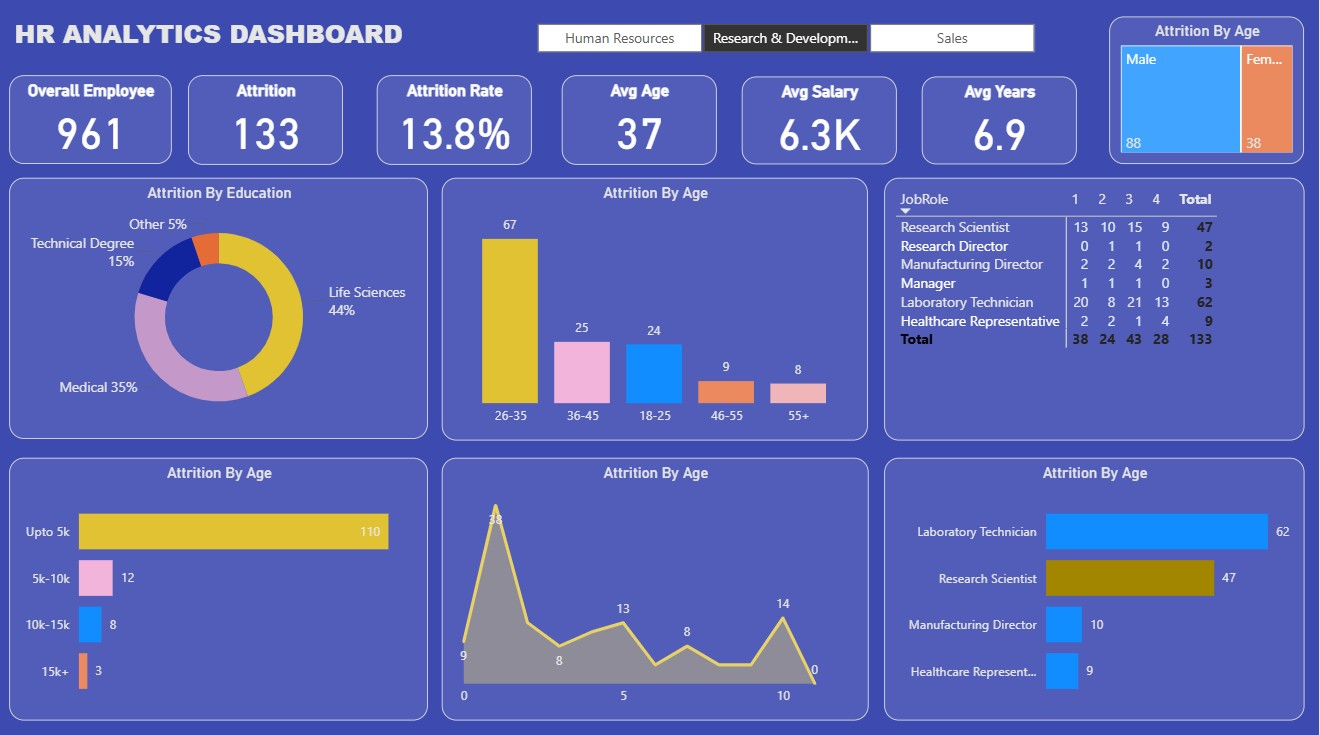

The page's visual inventory and layout, read from the dashboard file:
{"tool":"powerbi","page":{"name":"Page 1","canvas":[1280,720],"ordinal":0},"visuals":[{"type":"card","title":"Overall Employee","fields":{"Values":["CountNonNull(HR_Analytics.EmpID)"]},"box":[15.7,78.4,156.8,85.7],"z":0},{"type":"card","title":"Attrition","fields":{"Values":["Sum(HR_Analytics.AttritionValue)"]},"box":[188,78.2,149.6,86.4],"z":1000},{"type":"card","title":"Attrition Rate","fields":{"Values":["HR_Analytics.AttritionRate"]},"box":[370.5,78.2,149.6,86.4],"z":2000},{"type":"card","title":"Avg Age","fields":{"Values":["Avg(HR_Analytics.Age)"]},"box":[548.9,78.2,149.6,86.4],"z":3000},{"type":"card","title":"Avg Salary","fields":{"Values":["Avg(HR_Analytics.MonthlyIncome)"]},"box":[723.2,79.6,149.6,85.1],"z":4000},{"type":"card","title":"Avg Years","fields":{"Values":["Avg(HR_Analytics.YearsAtCompany)"]},"box":[896.1,79.6,149.6,85.1],"z":5000},{"type":"donutChart","title":"Attrition By Education","fields":{"Category":["HR_Analytics.EducationField"],"Y":["Sum(HR_Analytics.AttritionValue)"]},"box":[15.7,177.3,404.2,252.1],"z":6000},{"type":"columnChart","title":"Attrition By Age","fields":{"Category":["HR_Analytics.AgeGroup"],"Y":["Sum(HR_Analytics.AttritionValue)"]},"box":[433.1,177.3,411.4,253.4],"z":7000},{"type":"pivotTable","fields":{"Rows":["HR_Analytics.JobRole"],"Columns":["HR_Analytics.JobSatisfaction"],"Values":["Sum(HR_Analytics.AttritionValue)"]},"box":[860.2,177.3,405.4,253.4],"z":8000},{"type":"barChart","title":"Attrition By Age","fields":{"Category":["HR_Analytics.SalarySlab"],"Y":["Sum(HR_Analytics.AttritionValue)"]},"box":[15.7,447.6,404.2,253.4],"z":9000},{"type":"barChart","title":"Attrition By Age","fields":{"Category":["HR_Analytics.JobRole"],"Y":["Sum(HR_Analytics.AttritionValue)"]},"box":[860.2,447.6,405.4,253.4],"z":10000},{"type":"areaChart","title":"Attrition By Age","fields":{"Category":["HR_Analytics.YearsAtCompany"],"Y":["Sum(HR_Analytics.AttritionValue)"]},"box":[433.6,447.3,411.7,253.9],"z":11000},{"type":"treemap","title":"Attrition By Age","fields":{"Group":["HR_Analytics.Gender"],"Values":["Sum(HR_Analytics.AttritionValue)"]},"box":[1077.2,22,188,142.7],"z":12000},{"type":"slicer","fields":{"Values":["HR_Analytics.Department"]},"box":[499.5,21.7,529.6,41],"z":13000},{"type":"textbox","box":[15.7,15.7,395.7,47.1],"z":14000}]}

Visuals, with their boxes in screenshot pixels (x1, y1, x2, y2), scaled from the page's 1280x720 canvas onto the 1320x735 screenshot:
"Overall Employee" card: crop(16, 80, 178, 168)
"Attrition" card: crop(194, 80, 348, 168)
"Attrition Rate" card: crop(382, 80, 536, 168)
"Avg Age" card: crop(566, 80, 720, 168)
"Avg Salary" card: crop(746, 81, 900, 168)
"Avg Years" card: crop(924, 81, 1078, 168)
"Attrition By Education" donutChart: crop(16, 181, 433, 438)
"Attrition By Age" columnChart: crop(447, 181, 871, 440)
pivotTable - HR_Analytics.JobRole x HR_Analytics.JobSatisfaction: crop(887, 181, 1305, 440)
"Attrition By Age" barChart: crop(16, 457, 433, 716)
"Attrition By Age" barChart: crop(887, 457, 1305, 716)
"Attrition By Age" areaChart: crop(447, 457, 872, 716)
"Attrition By Age" treemap: crop(1111, 22, 1305, 168)
slicer - HR_Analytics.Department: crop(515, 22, 1061, 64)
textbox: crop(16, 16, 424, 64)
